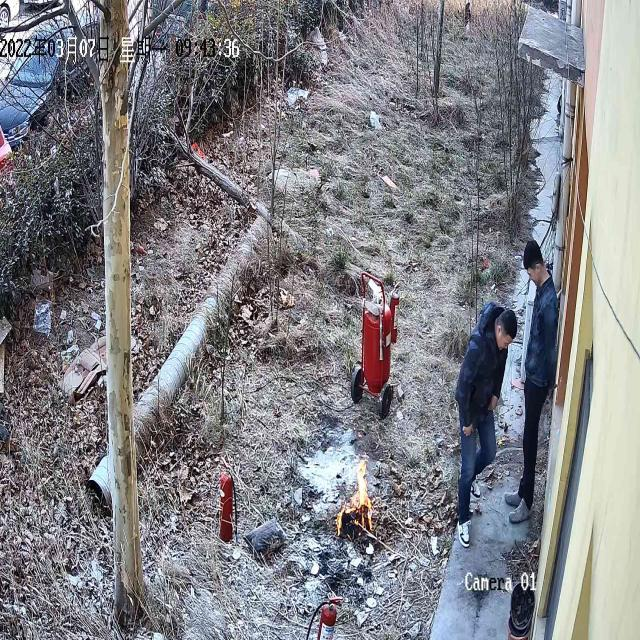Fire: (335, 453, 383, 537)
